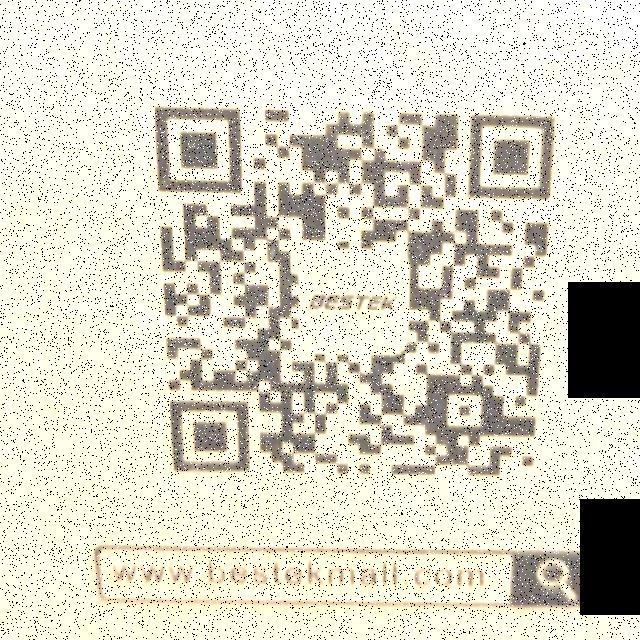QR_CODE: (130, 85, 584, 499)
